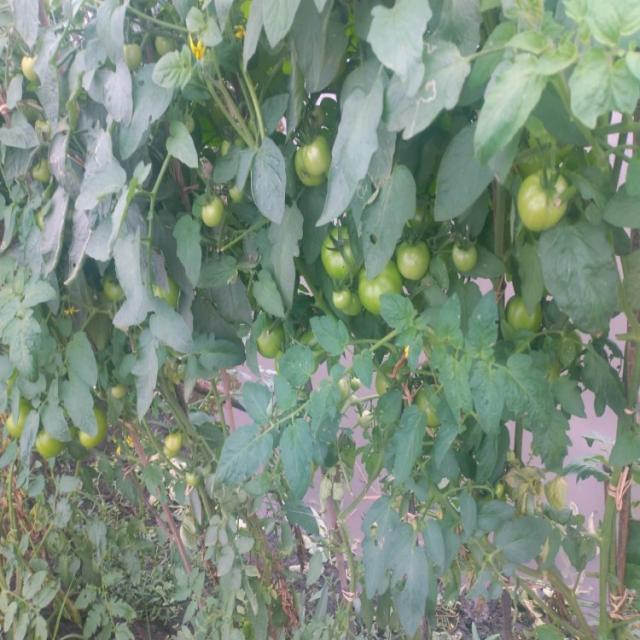tomato: (517, 173, 573, 236), (503, 282, 545, 343), (247, 320, 297, 370), (360, 261, 401, 316), (319, 224, 363, 269), (296, 140, 333, 188), (417, 389, 452, 439), (79, 413, 116, 455), (401, 240, 435, 284), (151, 283, 194, 315), (332, 279, 365, 314), (372, 366, 413, 394), (3, 406, 33, 441), (454, 242, 482, 278), (195, 199, 223, 235), (155, 35, 192, 58), (106, 386, 140, 409), (101, 272, 125, 304), (25, 55, 47, 89), (41, 430, 68, 457), (38, 161, 59, 191), (122, 43, 145, 70), (230, 174, 254, 197), (182, 474, 207, 492), (157, 437, 179, 453)
